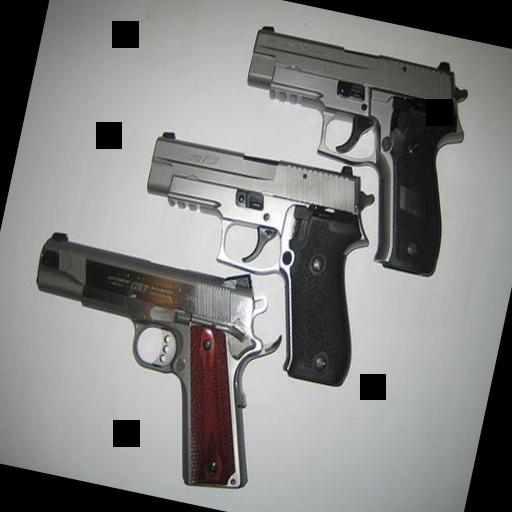Handgun: (0, 226, 291, 496), (112, 124, 388, 390), (210, 16, 480, 278)
